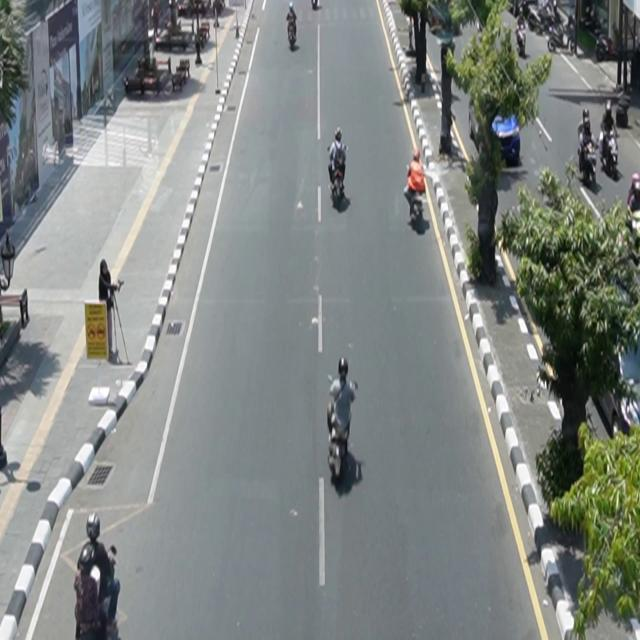car: (469, 92, 522, 168)
